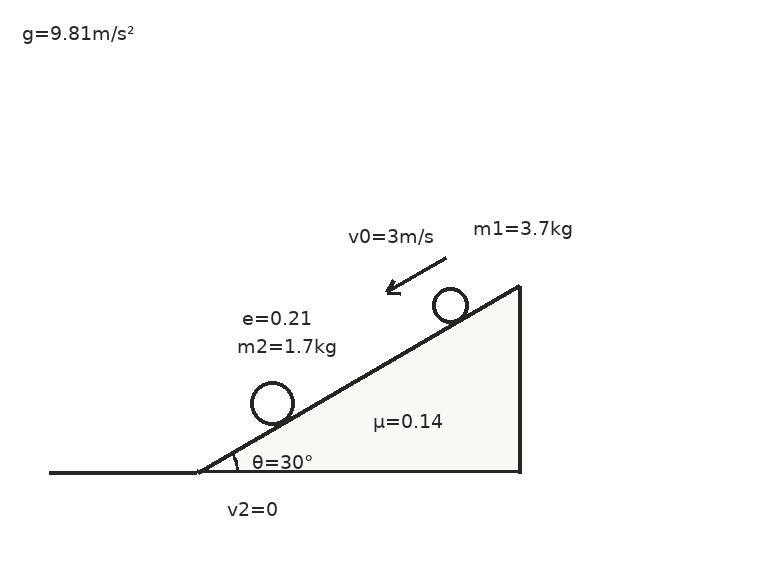ball: (248, 379, 296, 427), (430, 285, 470, 325)
ramp: (195, 284, 521, 474)
